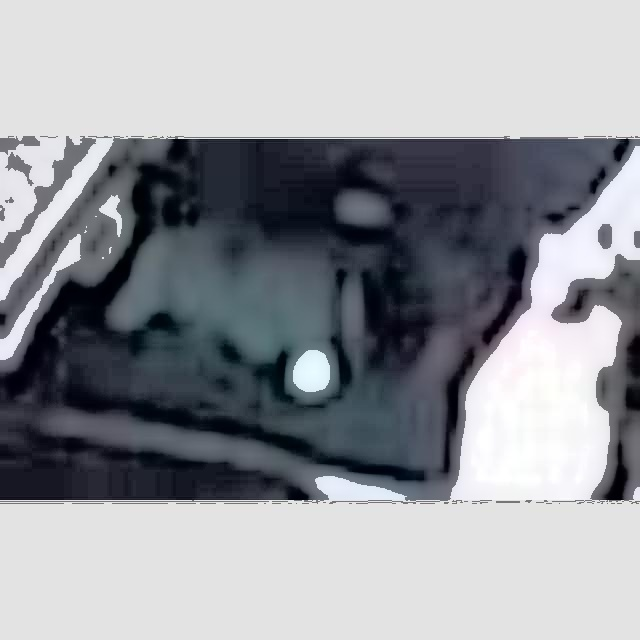tidak-pakai: (90, 188, 386, 418)
